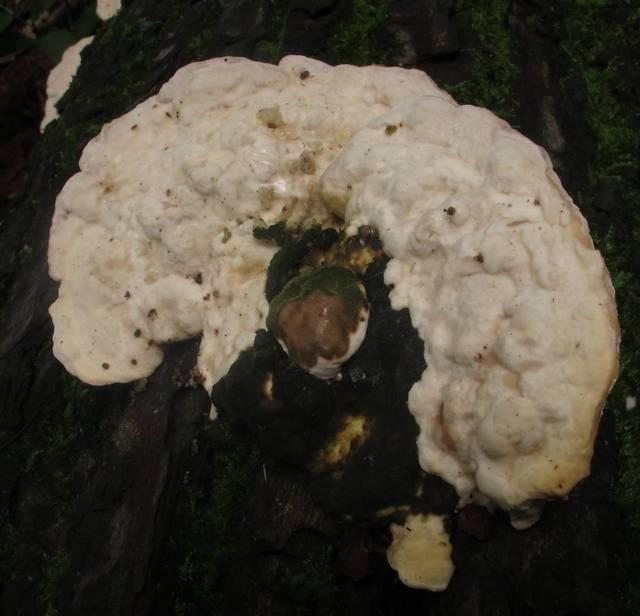poisonous_mushroom: (42, 3, 628, 520), (264, 263, 371, 382)
